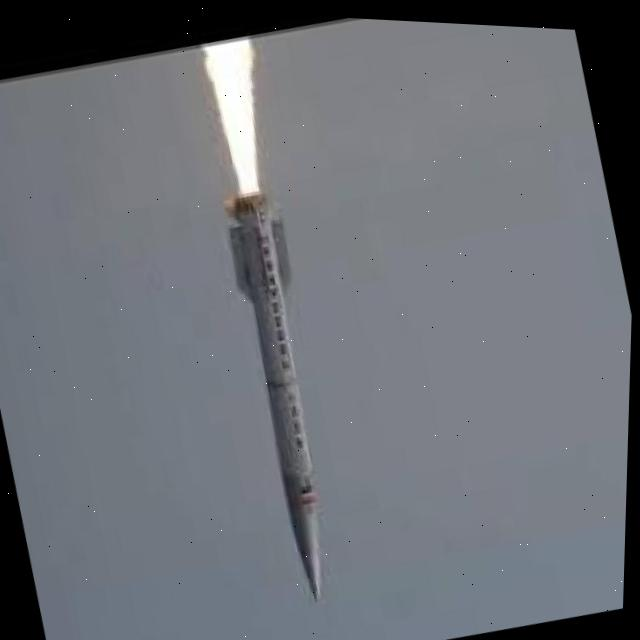missile: (205, 181, 365, 599)
